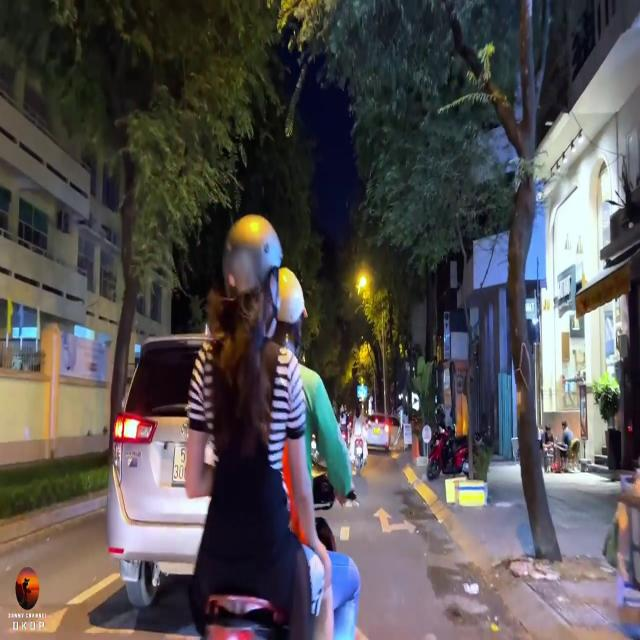bien_trang: (170, 444, 204, 483)
